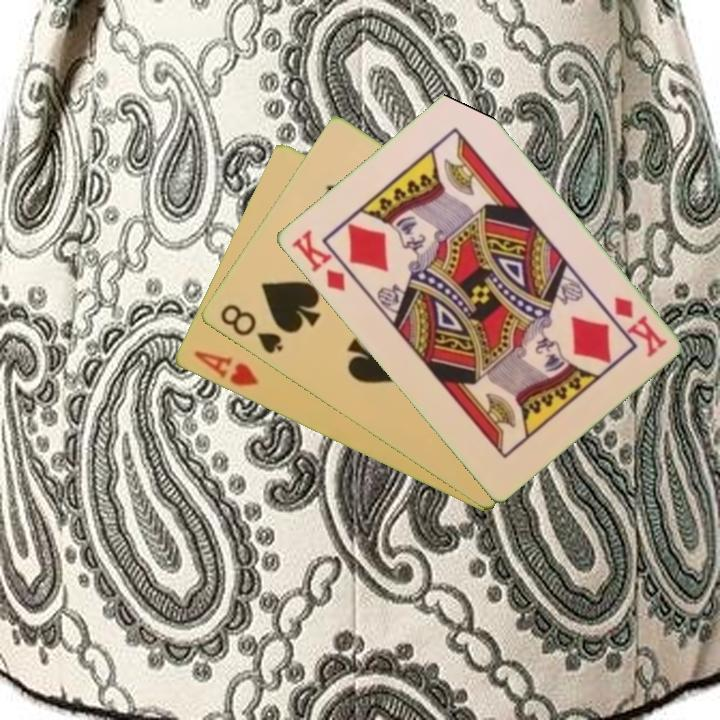8s: (216, 300, 286, 357)
Ah: (190, 347, 261, 390)
Kd: (287, 226, 348, 295), (609, 293, 670, 360)
